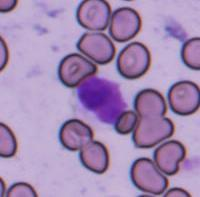M: (74, 72, 129, 124)
